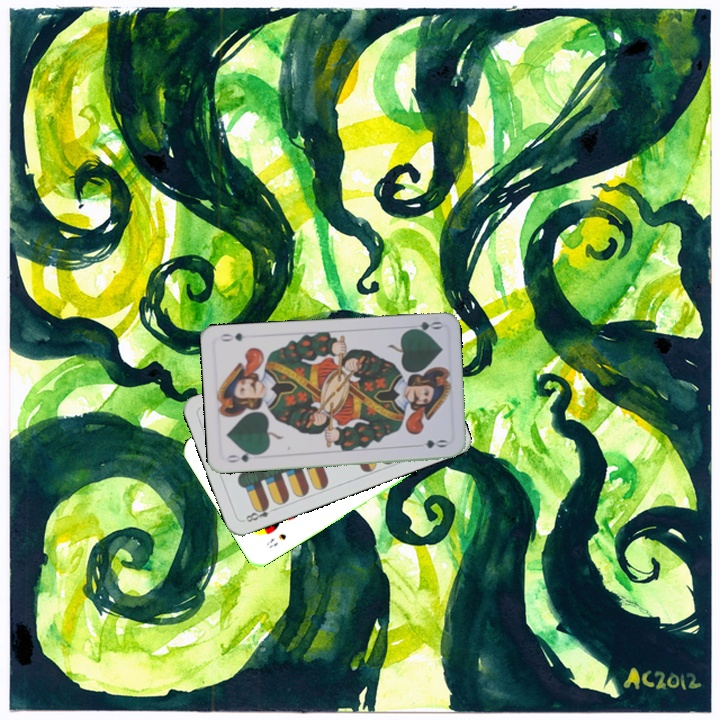E8: (242, 500, 279, 525)
GO: (403, 317, 444, 335), (222, 447, 262, 465)
S8: (262, 529, 289, 551)
